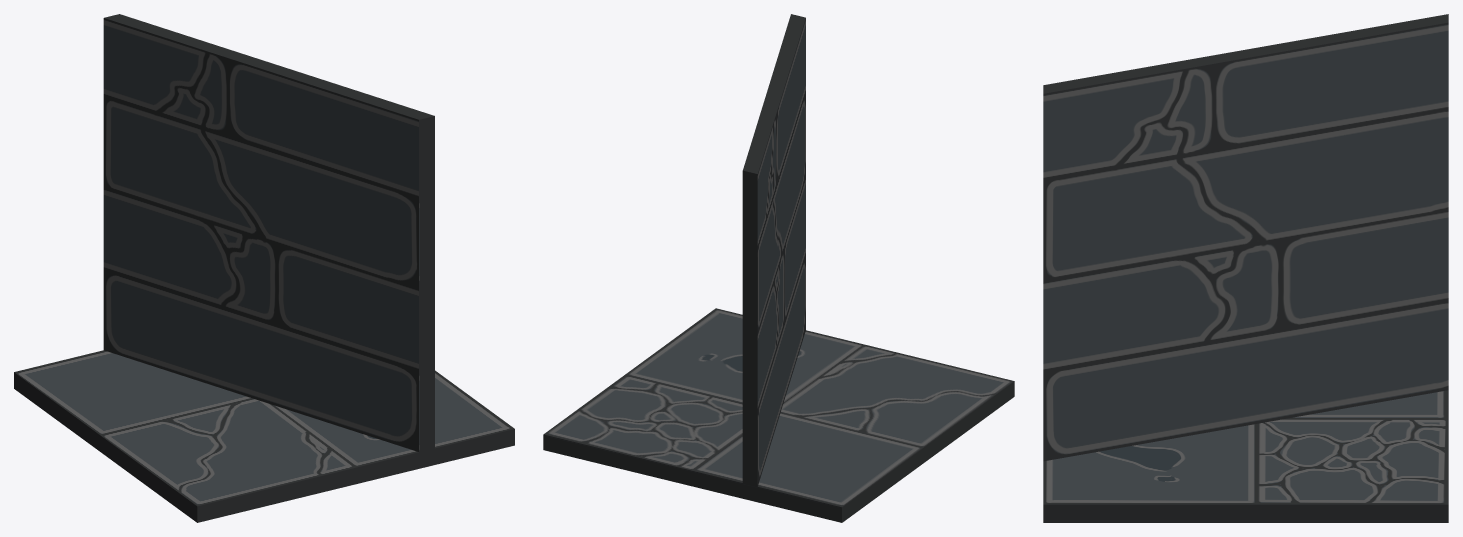
Rendered from Wall-XLCURVE-ENE_v1.1.fbx.
3 renders of one model, left to right at view 1: azimuth 30°, elevation 25°; view 2: azimuth 150°, elevation 25°; view 3: azimuth 270°, elevation 25°, orthographic. The views are drawn at different scales.
Visible parts, largest first — view 1: Tile_Main.005; view 2: Tile_Main.005; view 3: Tile_Main.005.
Part boxes in pixels (x1=…): Tile_Main.005: x1=14, y1=14, x2=514, y2=522; Tile_Main.005: x1=543, y1=14, x2=1014, y2=522; Tile_Main.005: x1=1043, y1=14, x2=1448, y2=522.
Bounding box in the file's own units: 100 × 100 × 105.
